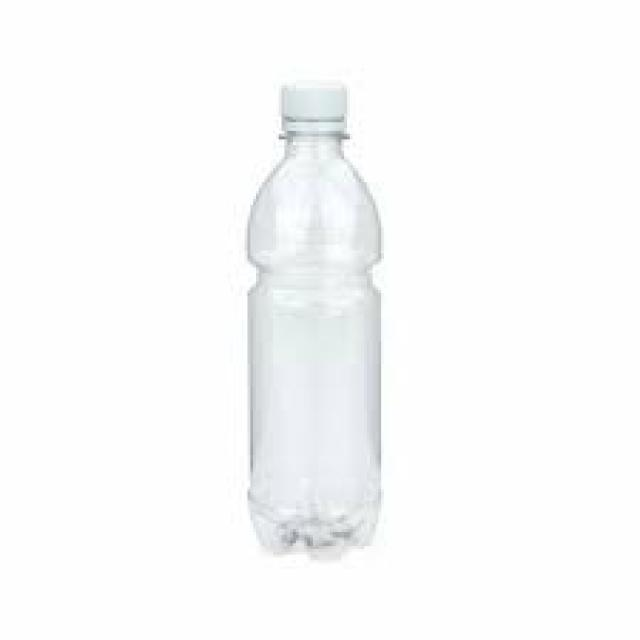plastic cup: (249, 86, 381, 549)
